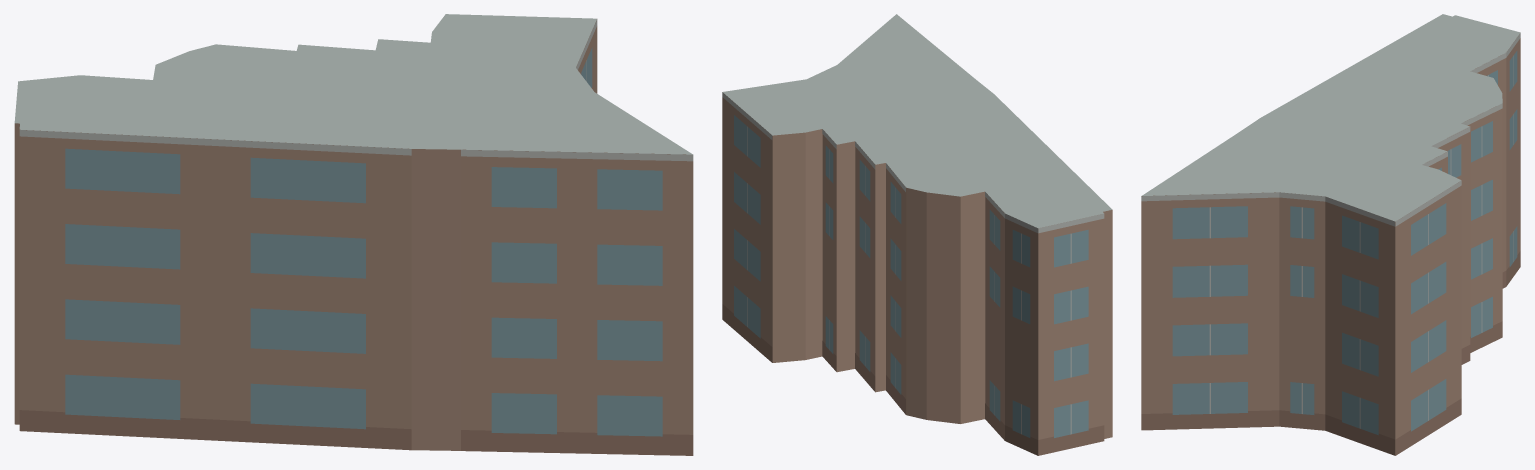
Rendered from survey-upis-32916620.glb.
3 renders of one model, left to right at view 1: azimuth 30°, elevation 25°; view 2: azimuth 150°, elevation 25°; view 3: azimuth 270°, elevation 25°, orthographic. The views are drawn at different scales.
Visible parts, largest first — view 1: survey-upis-32916620.tmp; view 2: survey-upis-32916620.tmp; view 3: survey-upis-32916620.tmp.
Boxes of the visible parts, bbox=[...] form: survey-upis-32916620.tmp: bbox=[14, 14, 693, 455]; survey-upis-32916620.tmp: bbox=[722, 14, 1112, 455]; survey-upis-32916620.tmp: bbox=[1141, 14, 1520, 455].
Bounding box in the file's own units: 20.92 × 11 × 16.15.
